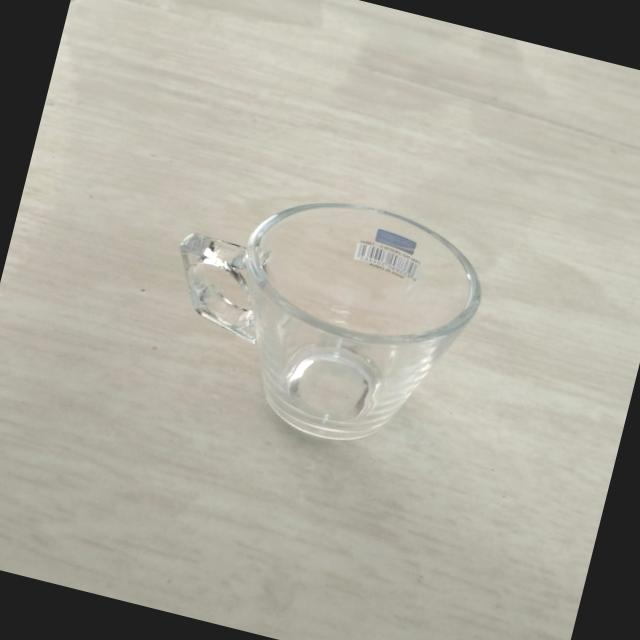glass-VX4N: (137, 149, 504, 475)
